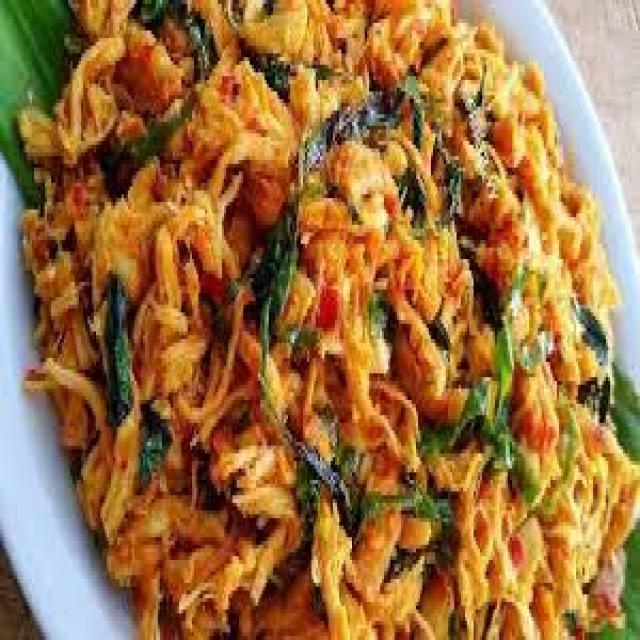ayam_suwir: (27, 0, 630, 639)
